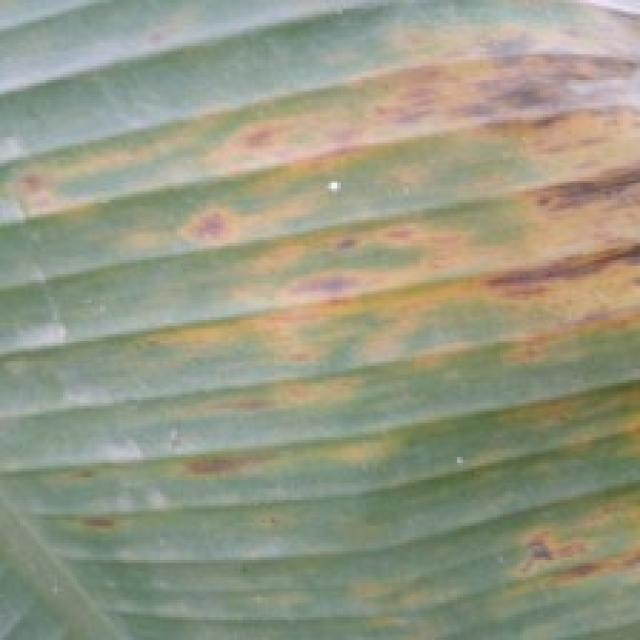Early_leaf_spot: (230, 0, 640, 513), (480, 477, 640, 609), (177, 350, 363, 433), (145, 420, 300, 490), (0, 160, 63, 226), (181, 203, 239, 262), (57, 508, 126, 550), (60, 455, 110, 507)
